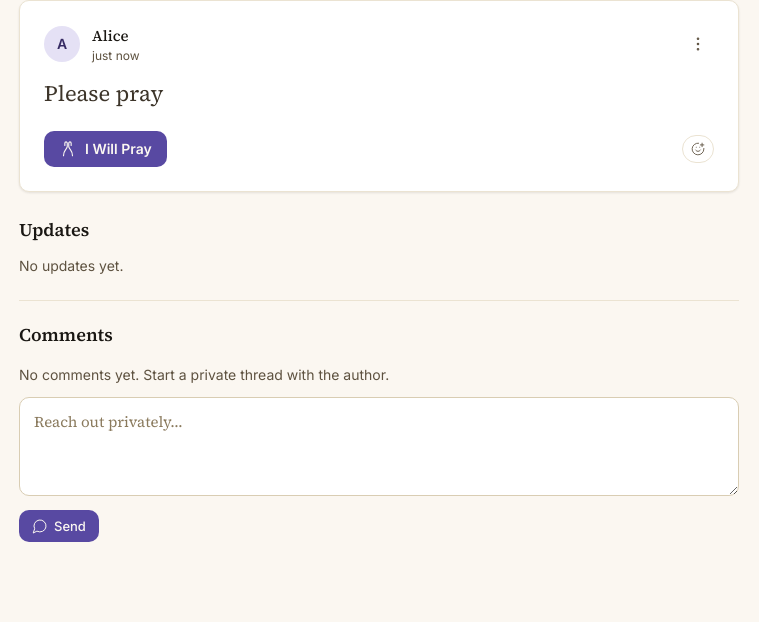
Test case: PostDetailPage › renders existing threads and allows posting into a new thread
Expected: the text "Please pray" is shown, [44,78,163,108]
Type "Praying" into the text box named "your comment" at (379, 447), box [19,397,739,496]
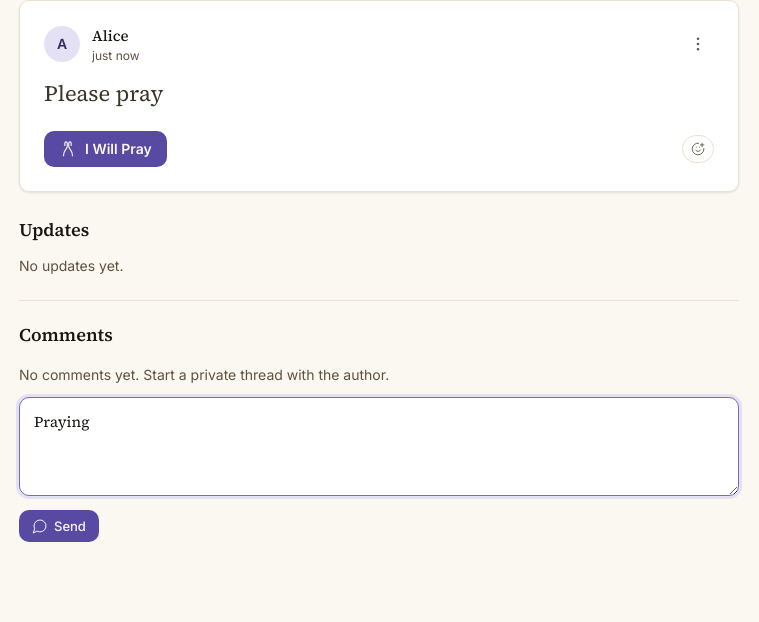
Click the button "Send" at (59, 526), box [19,510,99,542]
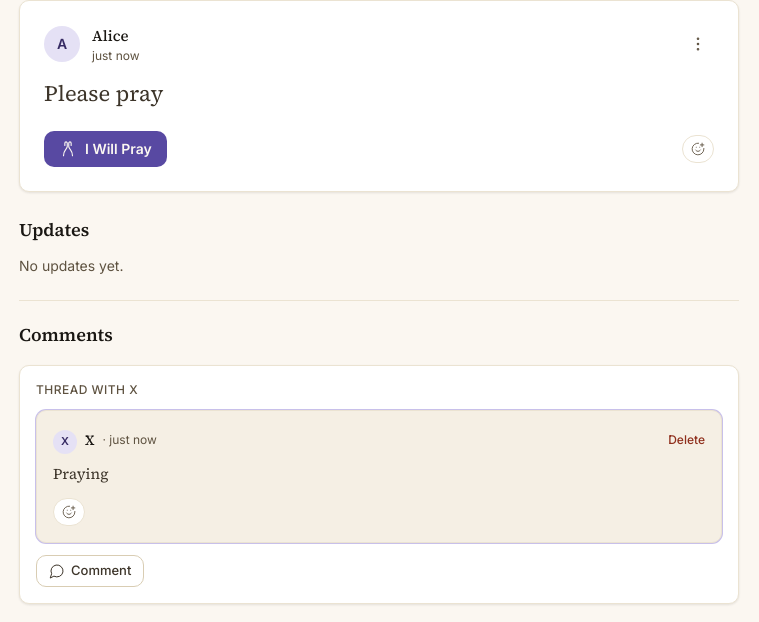
Result: the text "Praying" is shown at [53,462,108,484]
